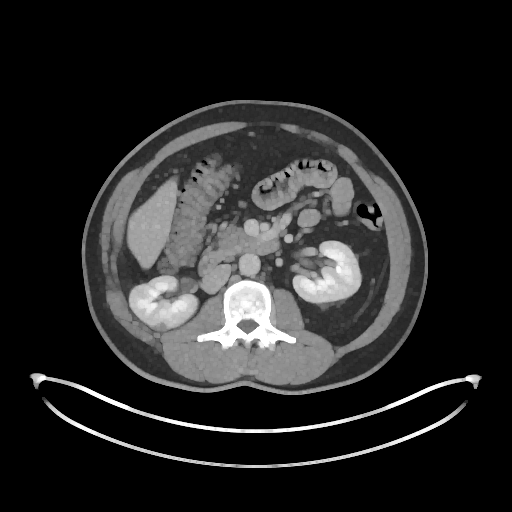Lesion: (150, 320, 171, 331)
